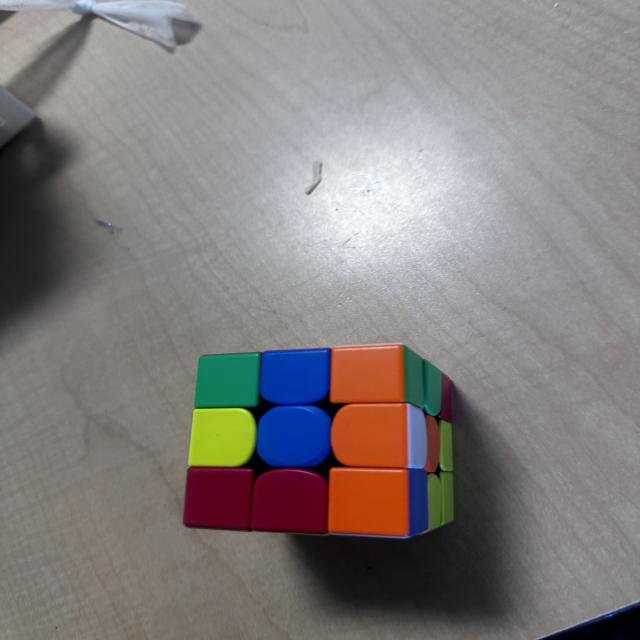sticker: (325, 465, 424, 540), (328, 402, 429, 472), (249, 467, 331, 538), (181, 464, 258, 534), (327, 344, 411, 408), (254, 405, 334, 471), (257, 349, 332, 408), (187, 408, 259, 468), (193, 352, 263, 412), (408, 347, 442, 417), (402, 346, 426, 413), (422, 357, 443, 418), (426, 472, 445, 534), (423, 412, 441, 474), (438, 472, 454, 531), (438, 418, 454, 471), (438, 373, 452, 425)
